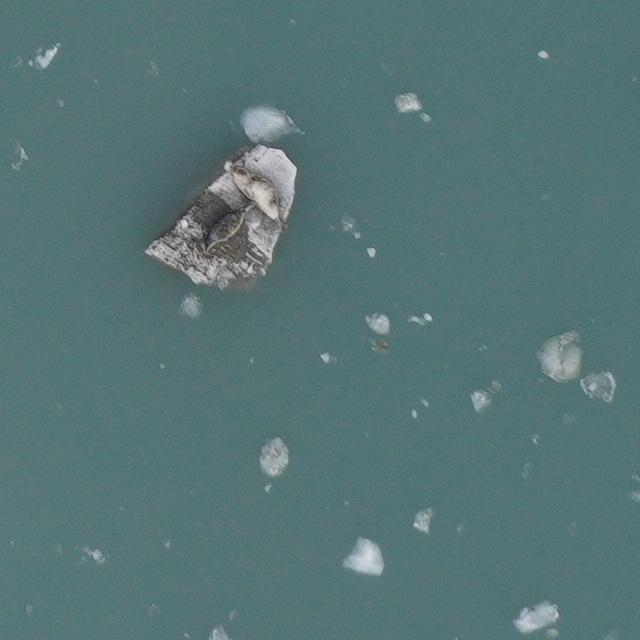seal: (223, 159, 295, 237), (200, 204, 251, 259)
